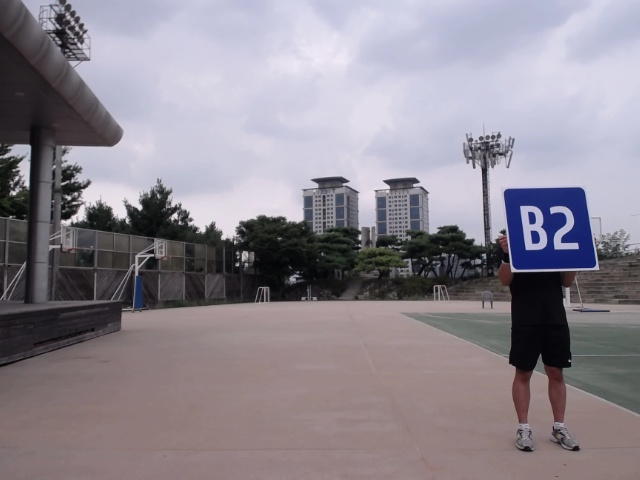delivery_b2: (502, 184, 600, 272)
